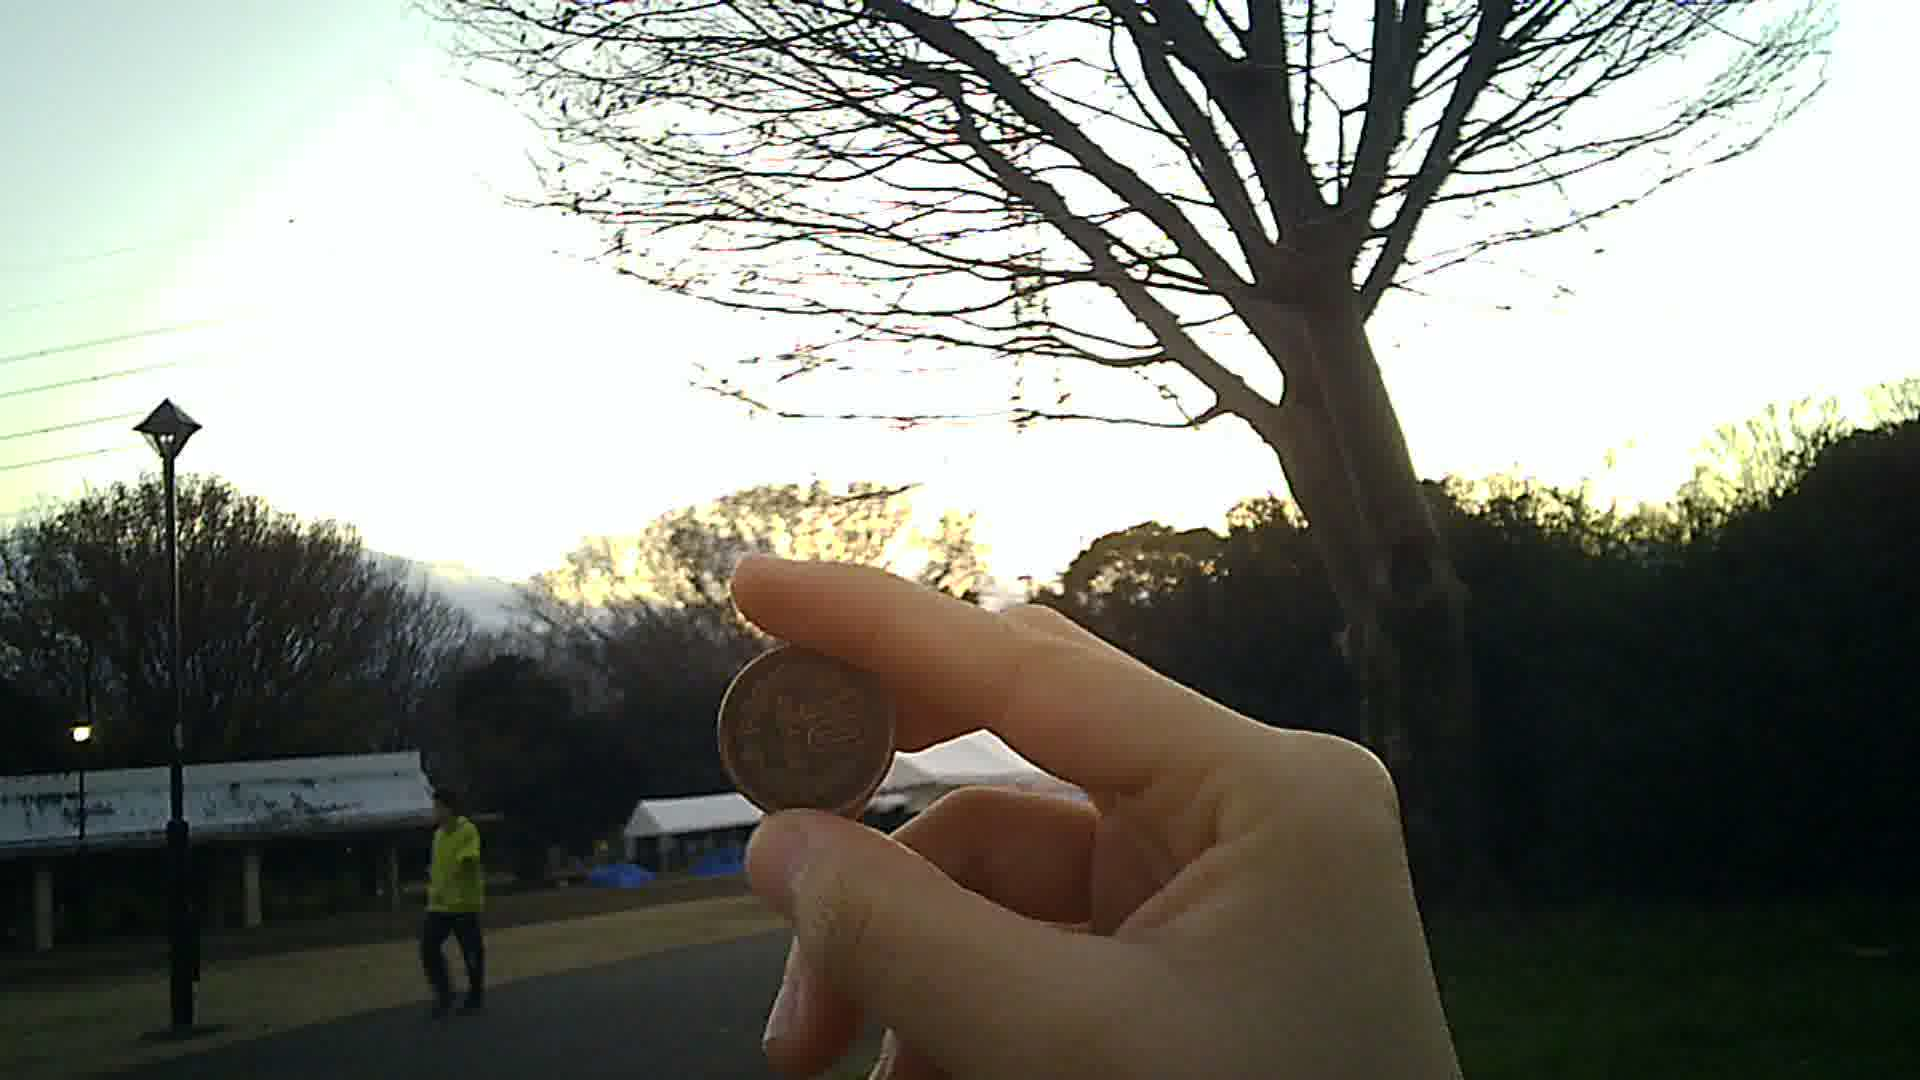10 Yen: (715, 650, 916, 833)
